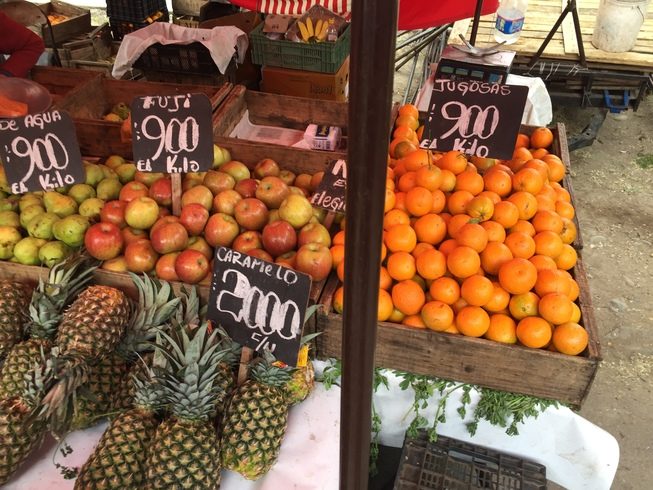precio: (215, 238, 317, 375), (430, 64, 532, 172), (128, 88, 224, 187), (1, 108, 84, 205), (312, 154, 378, 225)
